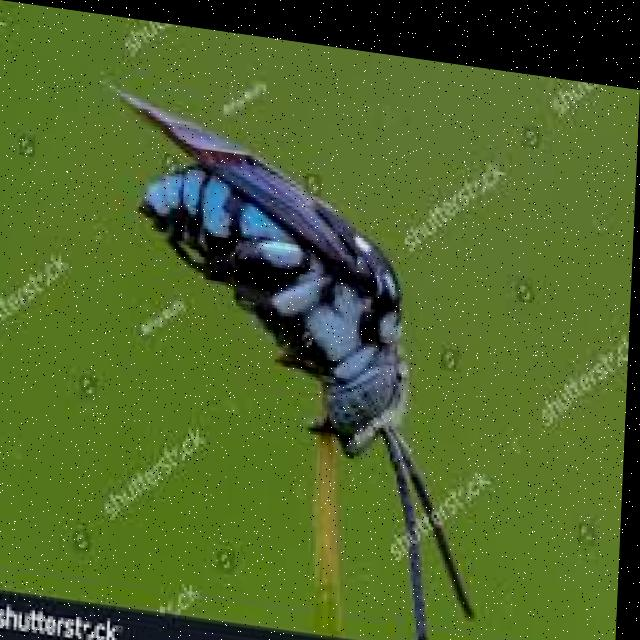Thyreus: (87, 67, 500, 612)
